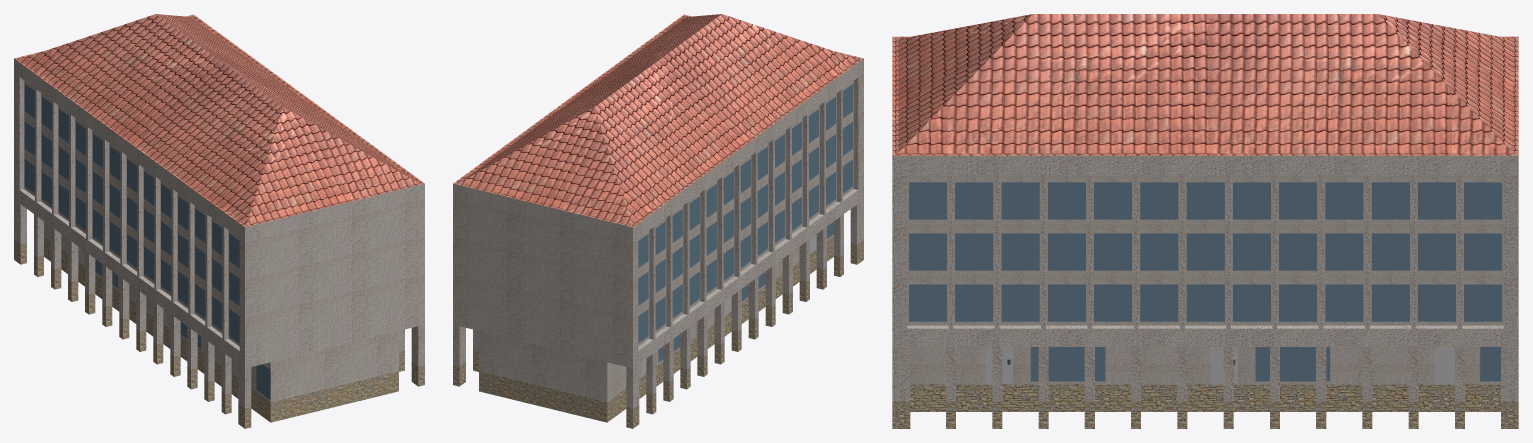
The model's file is urban_mixed_use.fbx.
3 renders of one model, left to right at view 1: azimuth 30°, elevation 25°; view 2: azimuth 150°, elevation 25°; view 3: azimuth 270°, elevation 25°, orthographic. The views are drawn at different scales.
Parts seen in each view (by area): view 1: Mixed #lod0; view 2: Mixed #lod0; view 3: Mixed #lod0.
Part boxes in pixels (x1=…): Mixed #lod0: x1=14, y1=14, x2=424, y2=428; Mixed #lod0: x1=453, y1=14, x2=863, y2=428; Mixed #lod0: x1=892, y1=14, x2=1518, y2=428.
Size of what is drawn, in the model's own units: 1400 by 3115 by 1950.
